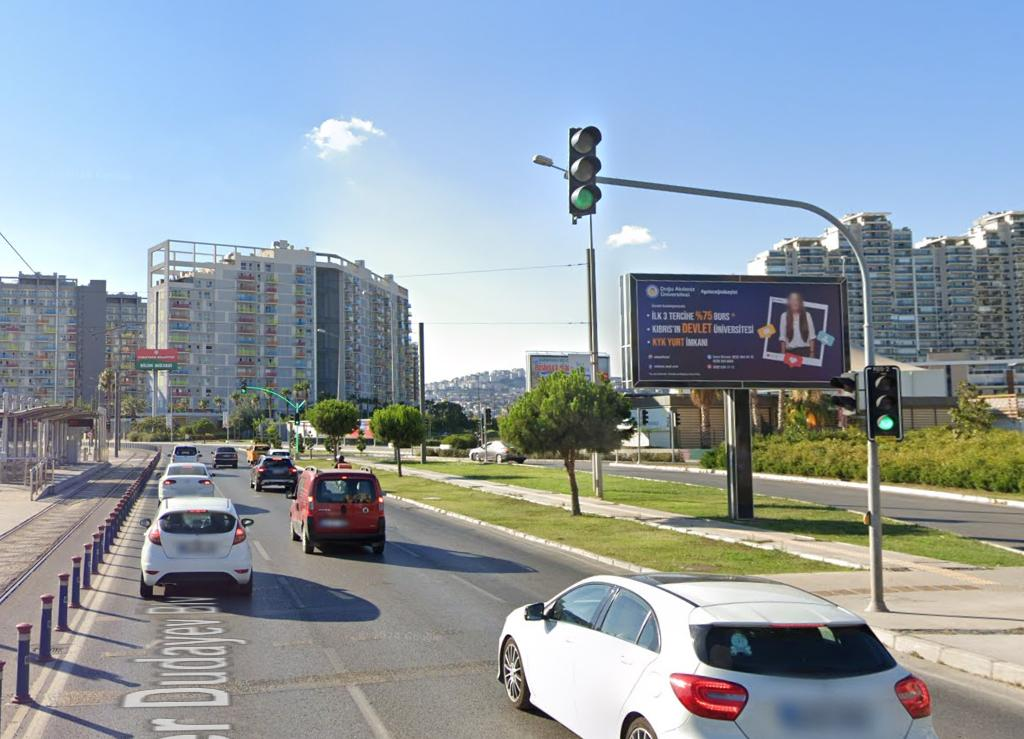greenlight: (569, 125, 600, 216), (869, 366, 897, 432)
